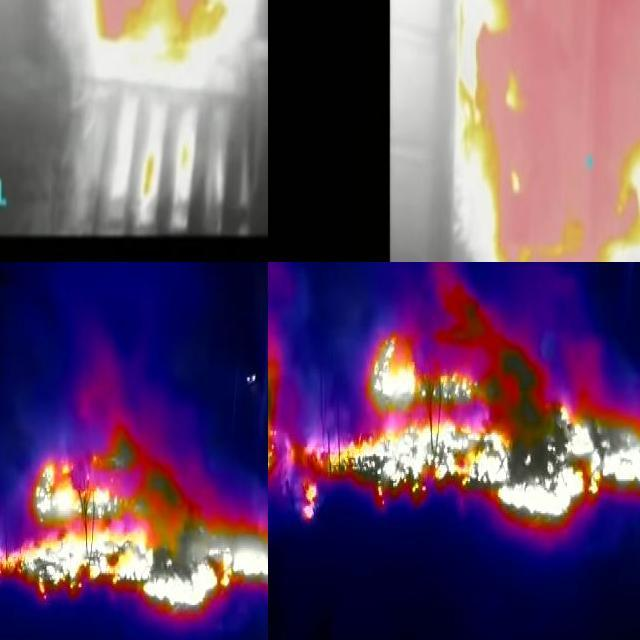fire: (300, 323, 640, 539), (437, 1, 640, 263), (1, 434, 269, 620)
